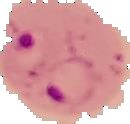parasitized: (4, 3, 129, 121), (33, 53, 115, 108), (3, 9, 49, 73)
